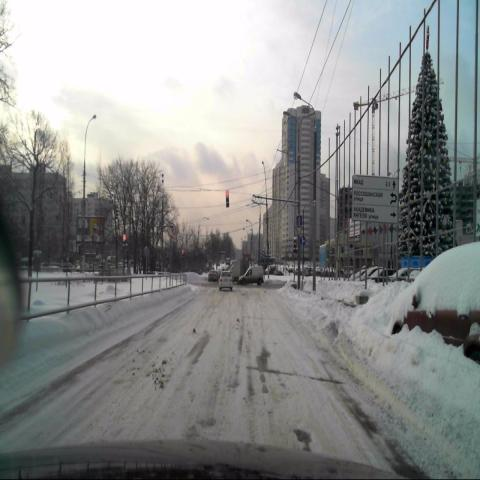3_18_2: (168, 222, 176, 237)
5_6: (296, 213, 302, 225)
